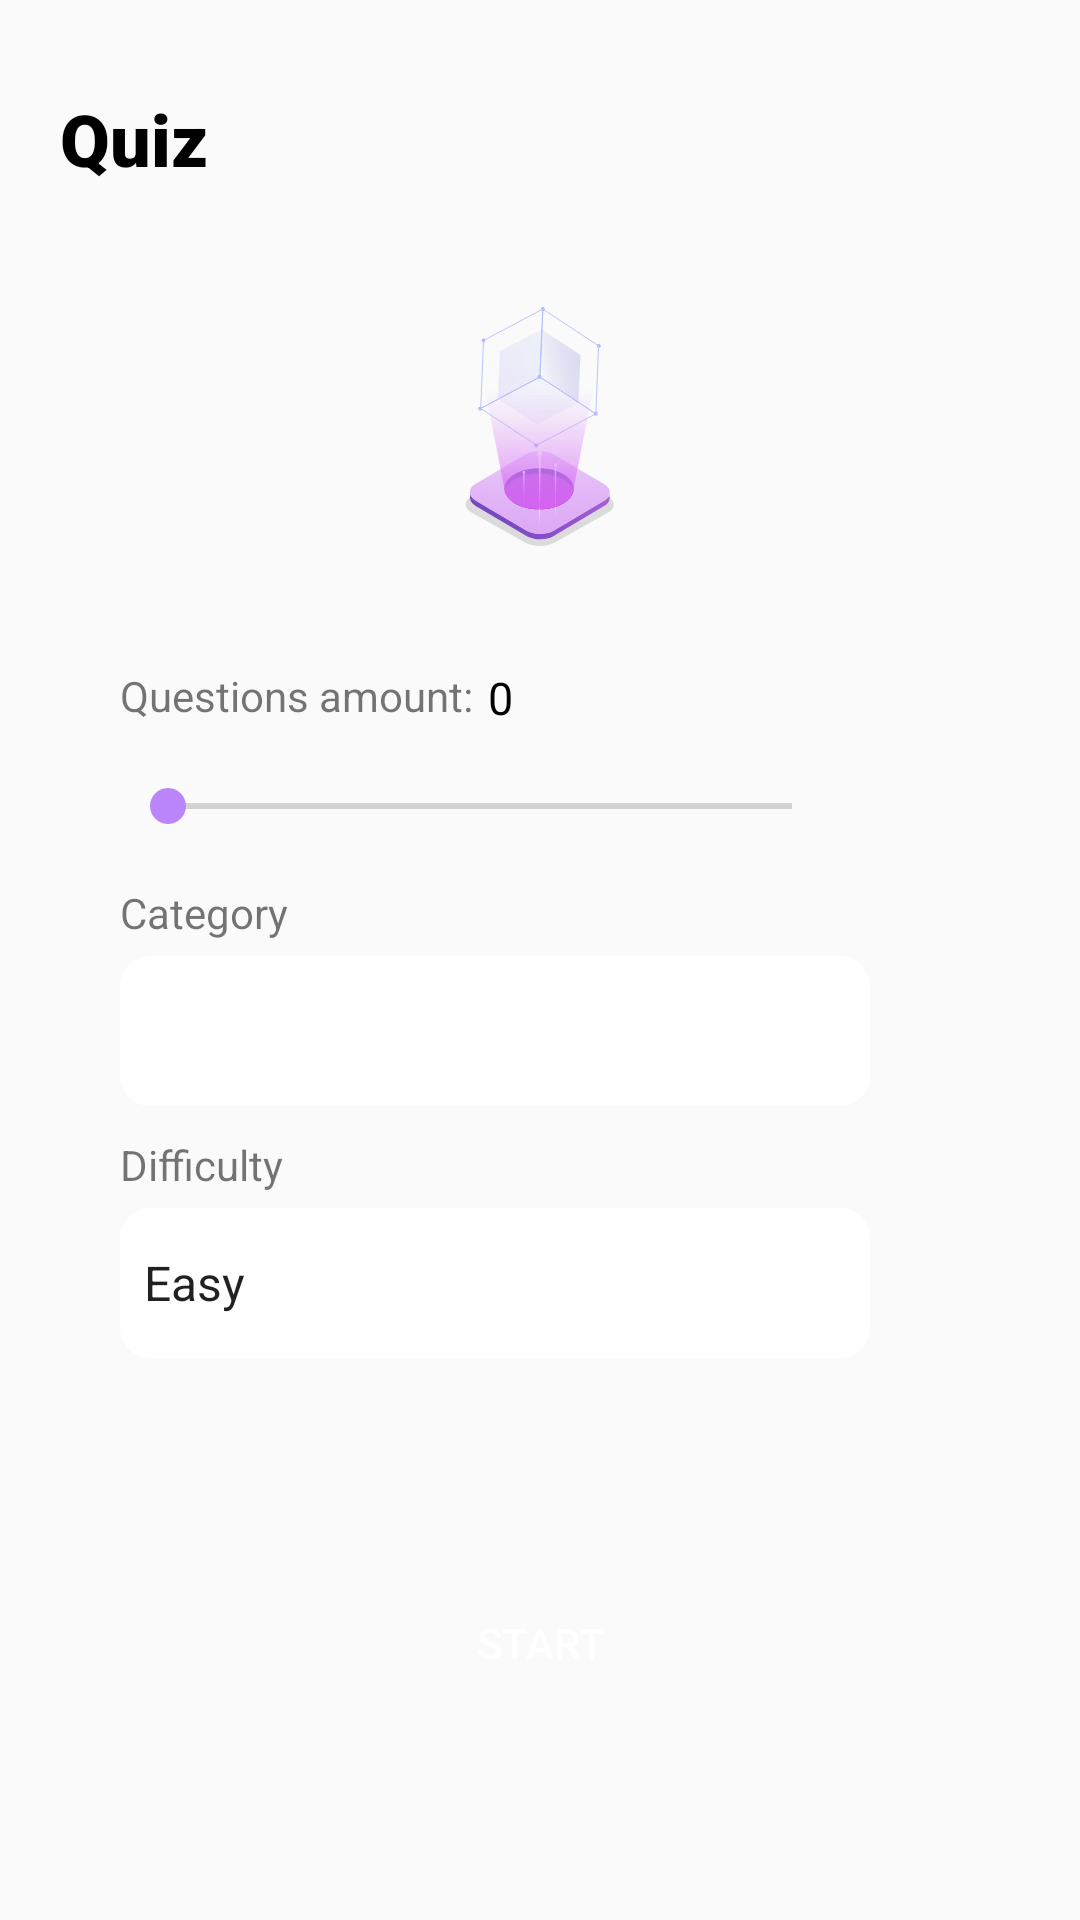

Locate icon controls on the screen. Image size 1080 x 1920, boxes as (x1, y1, x2, y2).
ar tut: (466, 307, 613, 546)
